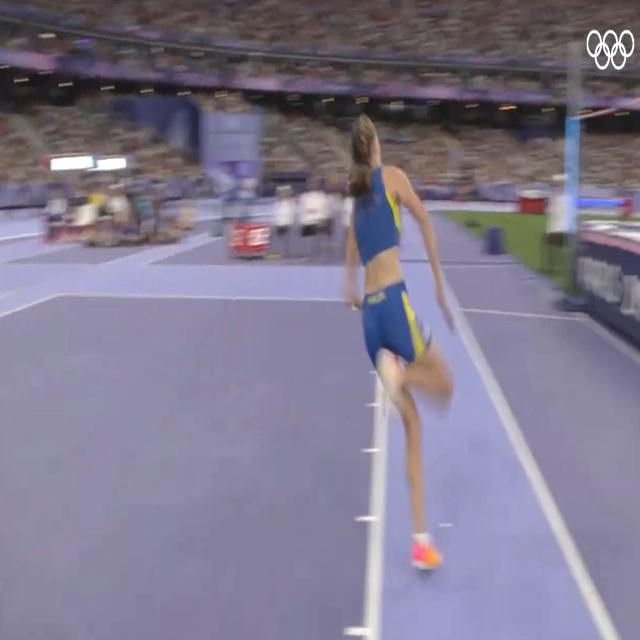run: (344, 116, 458, 578)
